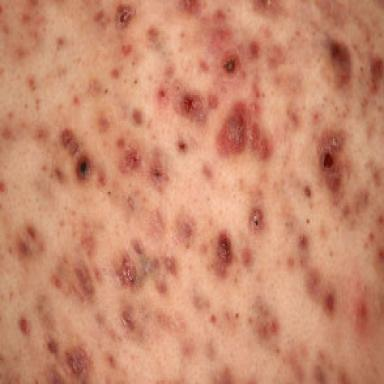acne: (114, 238, 160, 289), (319, 130, 349, 199), (217, 102, 246, 155), (306, 268, 336, 314), (210, 9, 234, 56), (329, 40, 351, 86), (212, 231, 233, 276), (22, 0, 46, 39), (66, 347, 91, 383), (257, 301, 279, 338), (251, 123, 272, 158), (74, 263, 94, 298), (149, 161, 169, 192), (370, 53, 384, 93), (355, 300, 370, 333), (81, 222, 95, 256), (176, 214, 194, 240), (181, 93, 202, 115), (121, 148, 141, 171), (61, 129, 79, 154), (116, 5, 135, 28), (268, 45, 285, 68), (76, 155, 91, 179), (355, 189, 369, 213), (179, 0, 201, 14), (223, 54, 239, 73), (46, 367, 64, 383), (94, 10, 110, 28), (287, 103, 299, 126), (250, 208, 263, 229), (122, 309, 135, 330), (35, 124, 49, 142), (164, 256, 176, 275), (97, 114, 109, 131), (47, 336, 58, 354), (19, 318, 30, 335), (254, 0, 272, 10), (18, 239, 29, 255), (89, 79, 101, 93), (148, 27, 159, 42), (242, 247, 251, 265), (133, 109, 143, 124), (26, 225, 36, 240), (208, 94, 218, 109), (250, 42, 259, 58), (157, 279, 167, 293), (299, 234, 308, 249), (203, 164, 212, 179), (2, 126, 12, 139), (52, 275, 62, 288), (304, 185, 314, 198), (97, 171, 106, 185), (177, 140, 187, 152), (251, 102, 259, 117), (157, 87, 166, 100), (27, 77, 36, 90), (94, 267, 102, 281), (121, 45, 131, 56), (377, 248, 384, 263), (107, 355, 115, 367), (57, 37, 65, 49), (200, 61, 209, 71), (343, 205, 350, 217), (117, 138, 125, 148), (111, 69, 119, 78), (368, 232, 374, 244), (287, 257, 294, 267), (377, 214, 384, 224), (313, 113, 319, 123), (73, 96, 79, 105), (210, 315, 216, 323), (365, 242, 368, 248)
